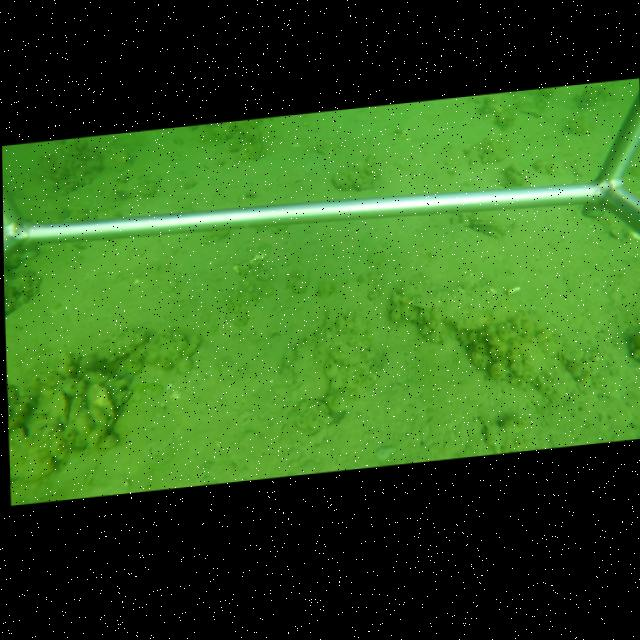Oyster-Closed: (464, 212, 511, 232), (241, 125, 264, 160)
Oyster-Indeterminate: (89, 382, 118, 434)
